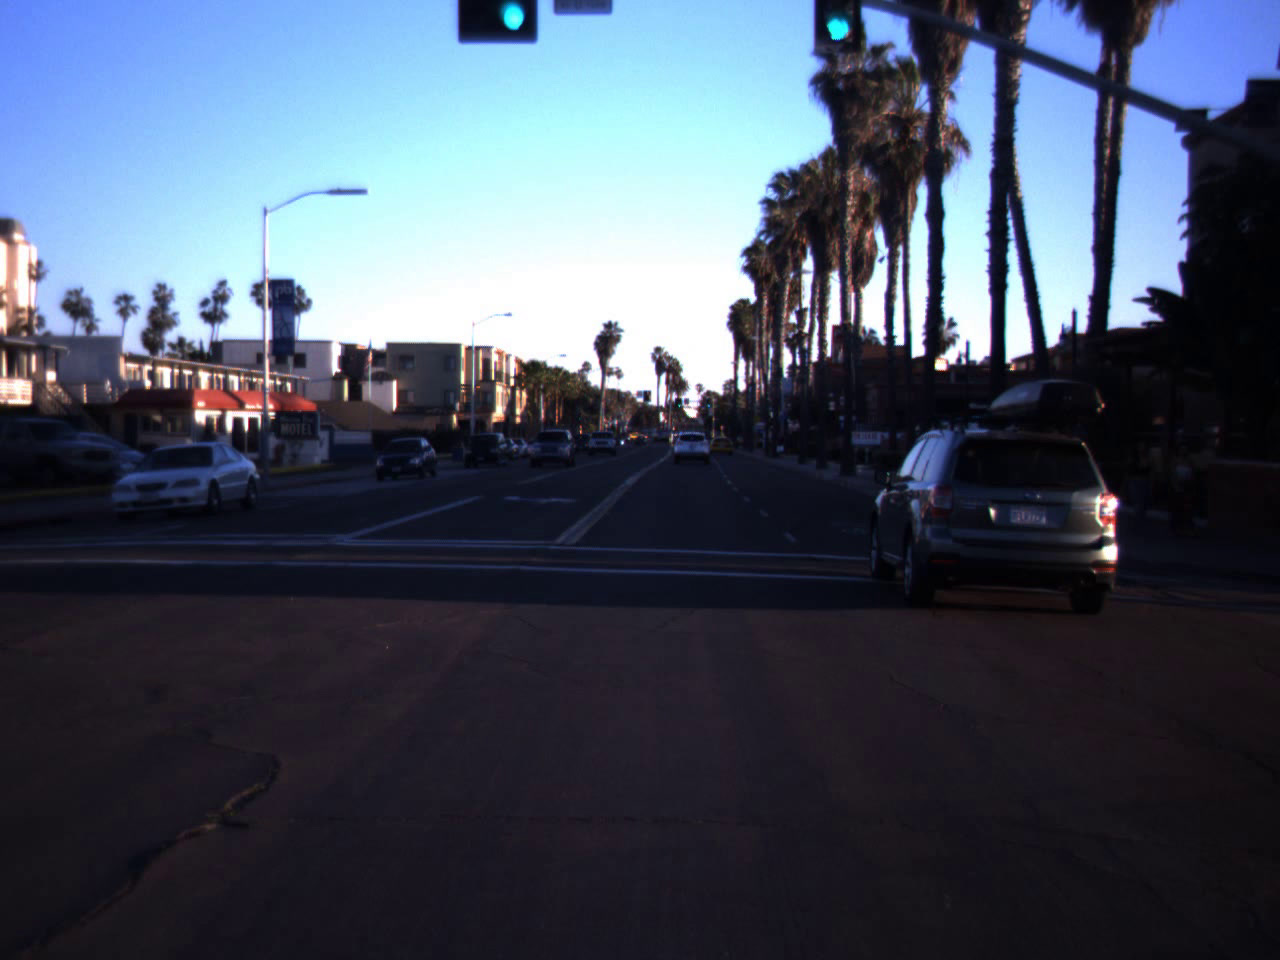go: (808, 0, 868, 51), (485, 0, 542, 39)
